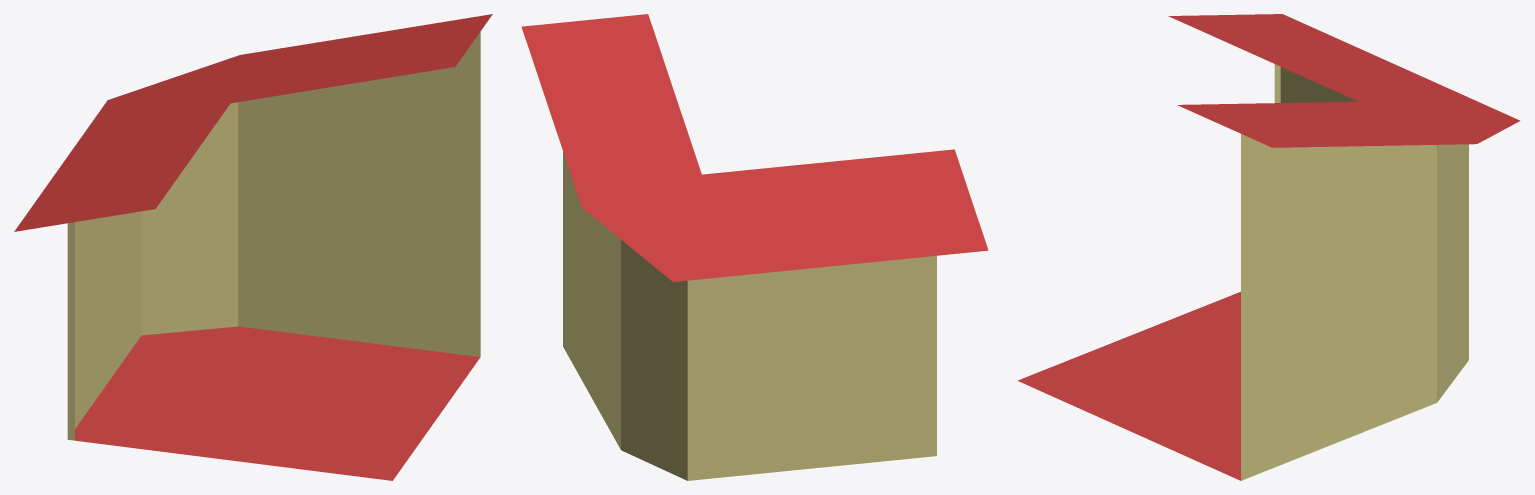
3 views of the same model, side by side, from view 1: azimuth 30°, elevation 25°; view 2: azimuth 150°, elevation 25°; view 3: azimuth 270°, elevation 25° (orthographic). The views are drawn at different scales.
Bounding box in the file's own units: 12.74 × 10.98 × 8.36.
